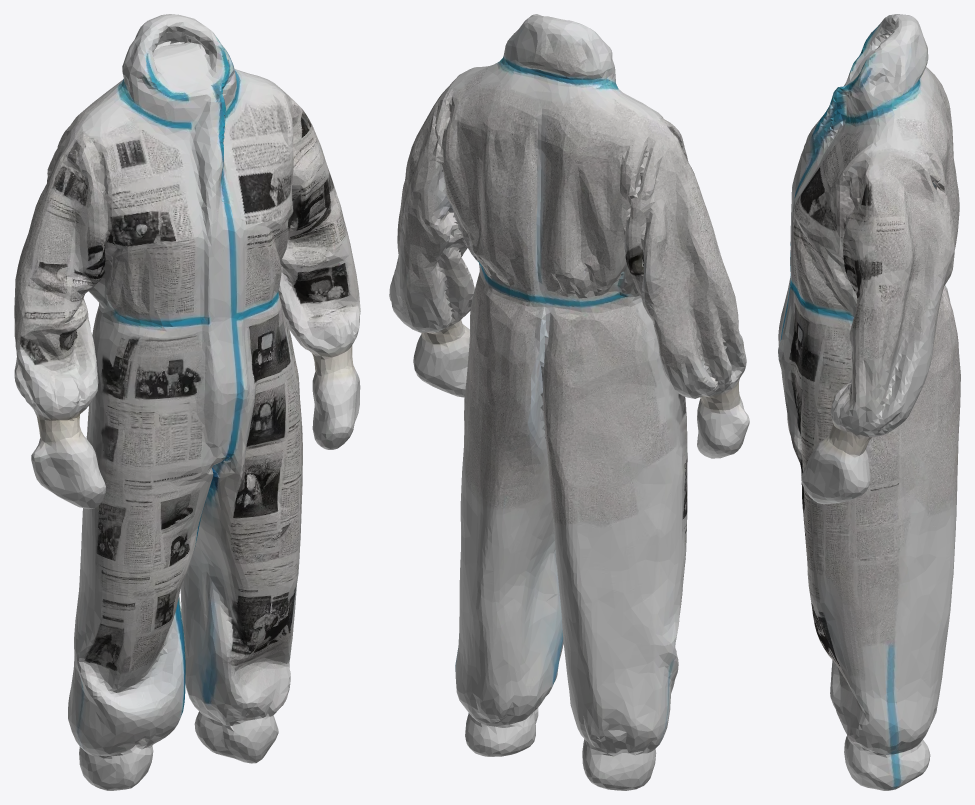
Rendered from belly (146).glb.
3 renders of one model, left to right at view 1: azimuth 30°, elevation 25°; view 2: azimuth 150°, elevation 25°; view 3: azimuth 270°, elevation 25°, orthographic. The views are drawn at different scales.
Parts seen in each view (by area): view 1: Hy21_Mesh.obj; view 2: Hy21_Mesh.obj; view 3: Hy21_Mesh.obj.
Boxes of the visible parts, x1=… form: Hy21_Mesh.obj: x1=14, y1=14, x2=360, y2=790; Hy21_Mesh.obj: x1=389, y1=14, x2=749, y2=790; Hy21_Mesh.obj: x1=778, y1=14, x2=960, y2=790.
Size of the model in its own units: 0.9208 by 1.96 by 0.4433.
1 material, 1 textured.
